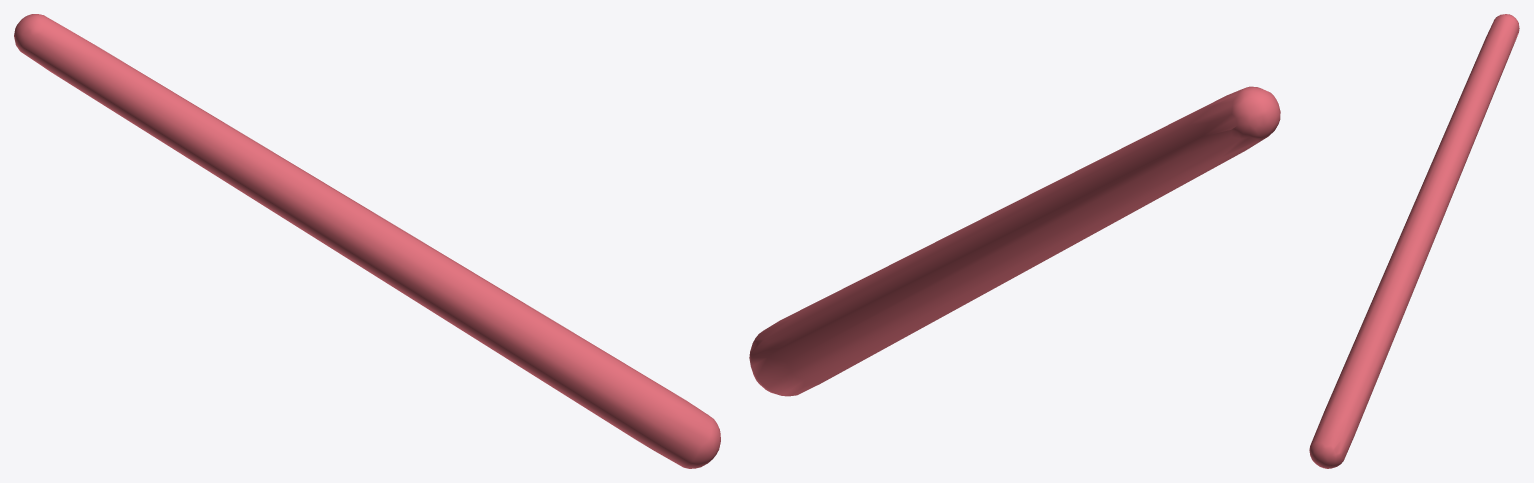
Rendered from fma22802_fj2259.glb.
The picture shows the model from 3 angles, left to right: view 1: azimuth 30°, elevation 25°; view 2: azimuth 150°, elevation 25°; view 3: azimuth 270°, elevation 25°; orthographic projection. The views are drawn at different scales.
Parts seen in each view (by area): view 1: FMA22802_FJ2259; view 2: FMA22802_FJ2259; view 3: FMA22802_FJ2259.
Part boxes in pixels (x1,y1,x2,y2): FMA22802_FJ2259: (14,14,720,468); FMA22802_FJ2259: (749,86,1280,396); FMA22802_FJ2259: (1309,14,1519,468).
Bounding box in the file's own units: 0.021 × 0.017 × 0.0109.
